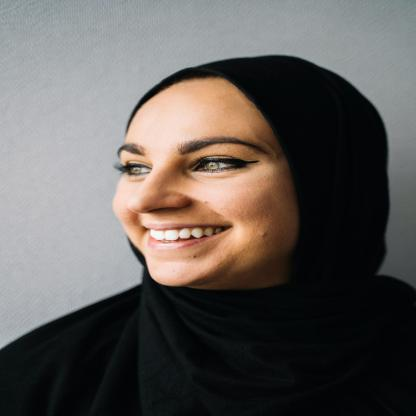Eye: (186, 155, 253, 178), (120, 160, 153, 182)
Mouth: (140, 221, 237, 252)
Nose: (126, 164, 190, 214)
